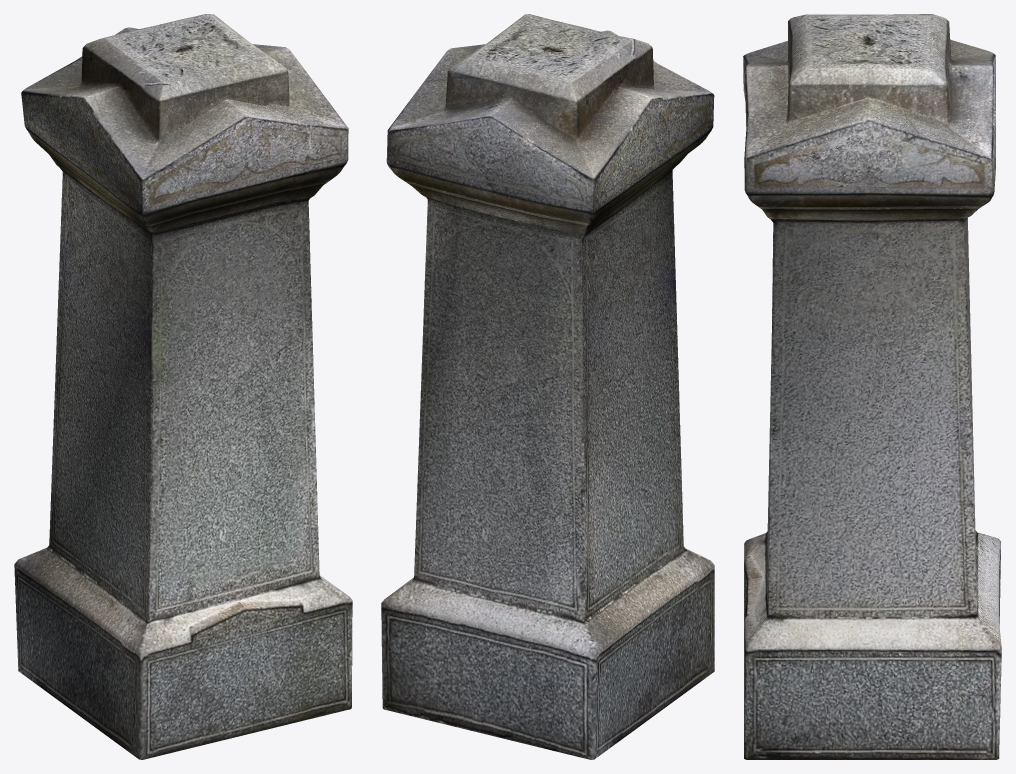
The model's file is sketchfab-damaged-tombstone-drydoctoregg.glb.
The picture shows the model from 3 angles, left to right: view 1: azimuth 30°, elevation 25°; view 2: azimuth 150°, elevation 25°; view 3: azimuth 270°, elevation 25°; orthographic projection. The views are drawn at different scales.
Visible parts, largest first — view 1: Cube; view 2: Cube; view 3: Cube.
Part boxes in pixels (<box>): Cube: <box>14,14,352,759</box>; Cube: <box>381,14,714,759</box>; Cube: <box>743,14,1001,759</box>.
Bounding box in the file's own units: 58.49 × 165 × 58.35.
Materials: 1 (1 with a texture image).
